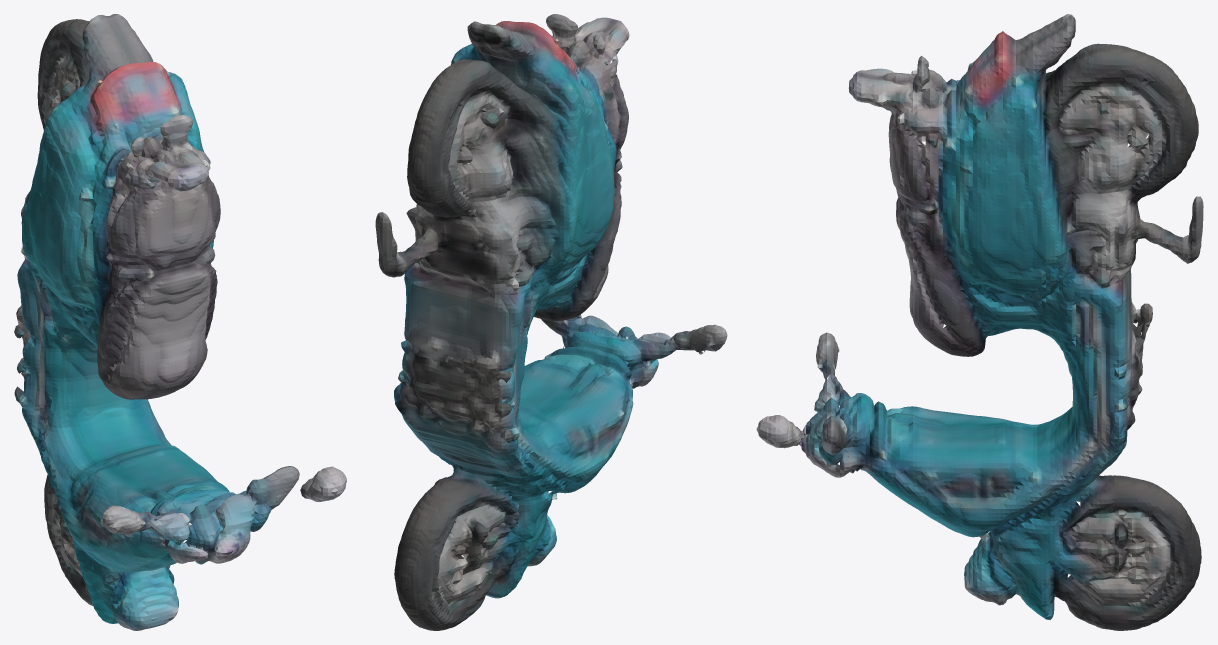
Rendered from sco0ter.glb.
The picture shows the model from 3 angles, left to right: view 1: azimuth 30°, elevation 25°; view 2: azimuth 150°, elevation 25°; view 3: azimuth 270°, elevation 25°; orthographic projection. The views are drawn at different scales.
Visible parts, largest first — view 1: world; view 2: world; view 3: world.
Part boxes in pixels (left/top/right/bottom): world: left=14, top=14, right=346, bottom=630; world: left=375, top=14, right=727, bottom=630; world: left=756, top=14, right=1203, bottom=630.
Size of the model in its own units: 0.395 by 1.06 by 0.7107.
